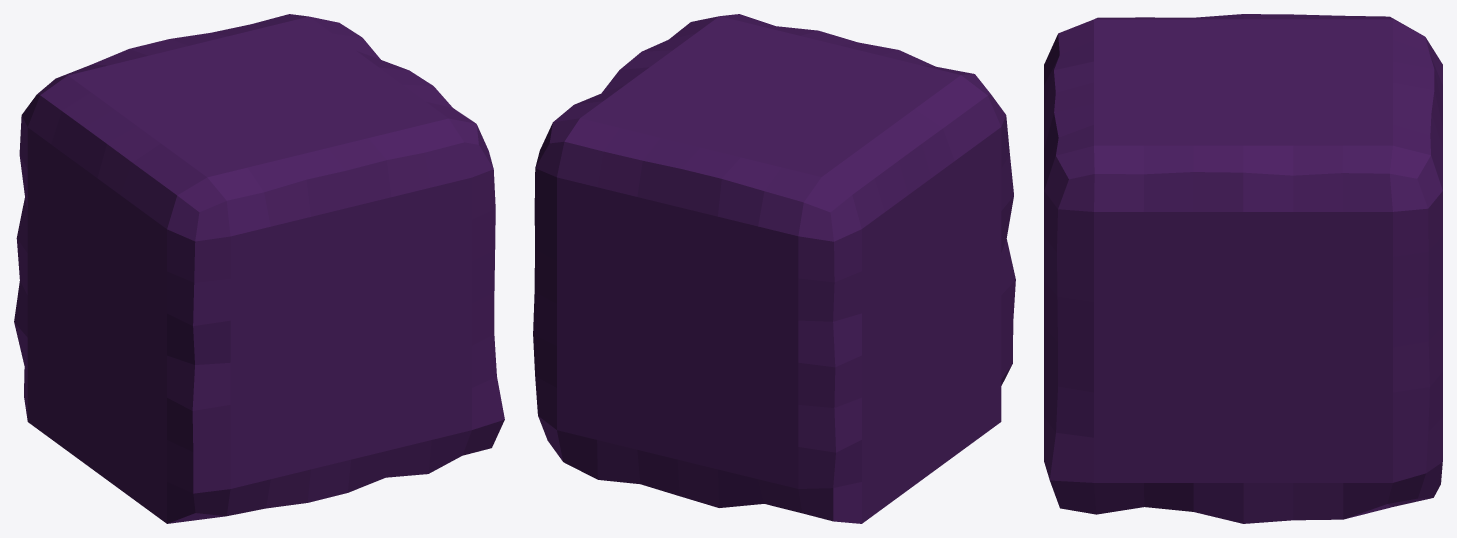
Rendered from fallingBlock.obj.
3 views of the same model, side by side, from view 1: azimuth 30°, elevation 25°; view 2: azimuth 150°, elevation 25°; view 3: azimuth 270°, elevation 25° (orthographic). The views are drawn at different scales.
Parts seen in each view (by area): view 1: 立方体.001; view 2: 立方体.001; view 3: 立方体.001.
Boxes of the visible parts, <box> form: 立方体.001: <box>14,14,504,523</box>; 立方体.001: <box>533,14,1015,523</box>; 立方体.001: <box>1044,14,1442,523</box>.
Size of the model in its own units: 1 by 1 by 1.
1 material, 1 textured.
